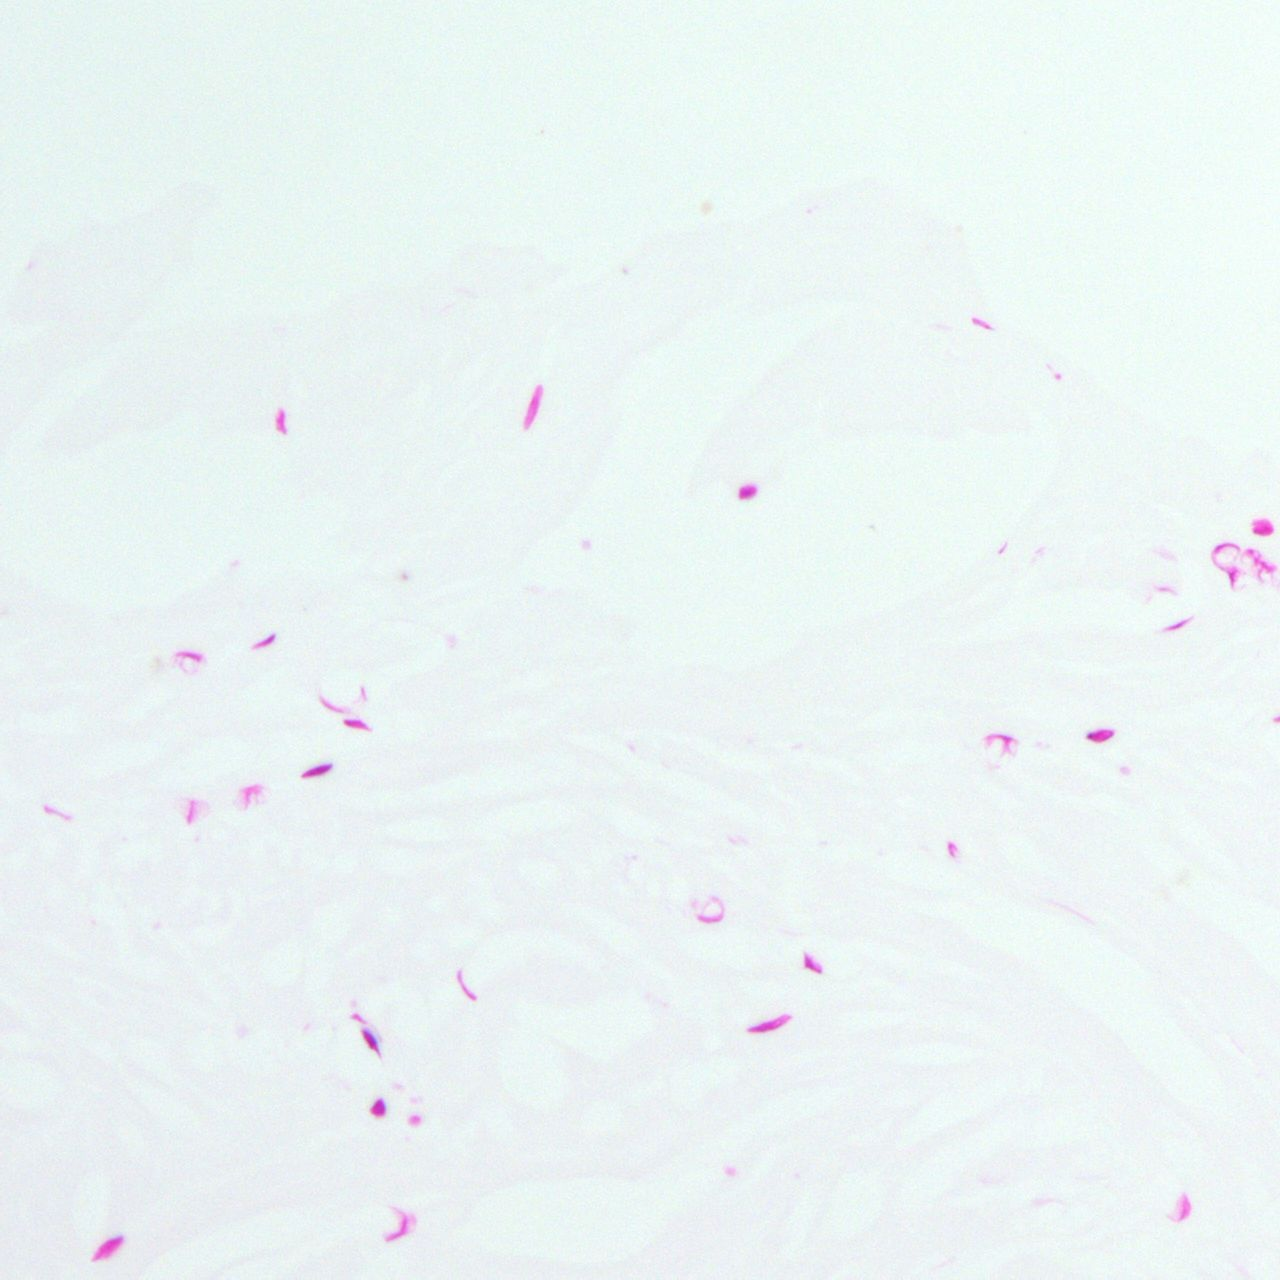nucleus-FG: (519, 381, 547, 433), (743, 1013, 794, 1037), (359, 1024, 383, 1057), (299, 761, 332, 782), (1160, 617, 1194, 636), (252, 632, 279, 651), (342, 716, 372, 731), (804, 951, 823, 972), (1085, 728, 1114, 741), (274, 408, 287, 435), (372, 1097, 386, 1116), (738, 484, 755, 498)
